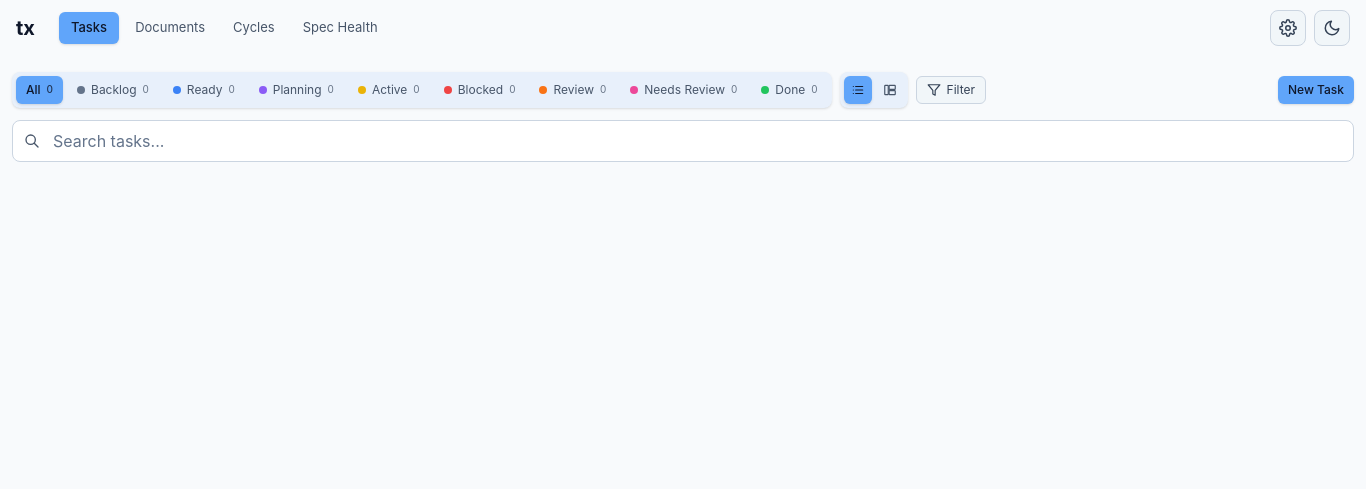
Keyboard shortcuts › CMD+A after tab transitions › selects all tasks after navigating Spec Health -> Tasks
The image size is (1366, 489).
Click the button "Spec Health": (340, 28) [291,12,390,44]
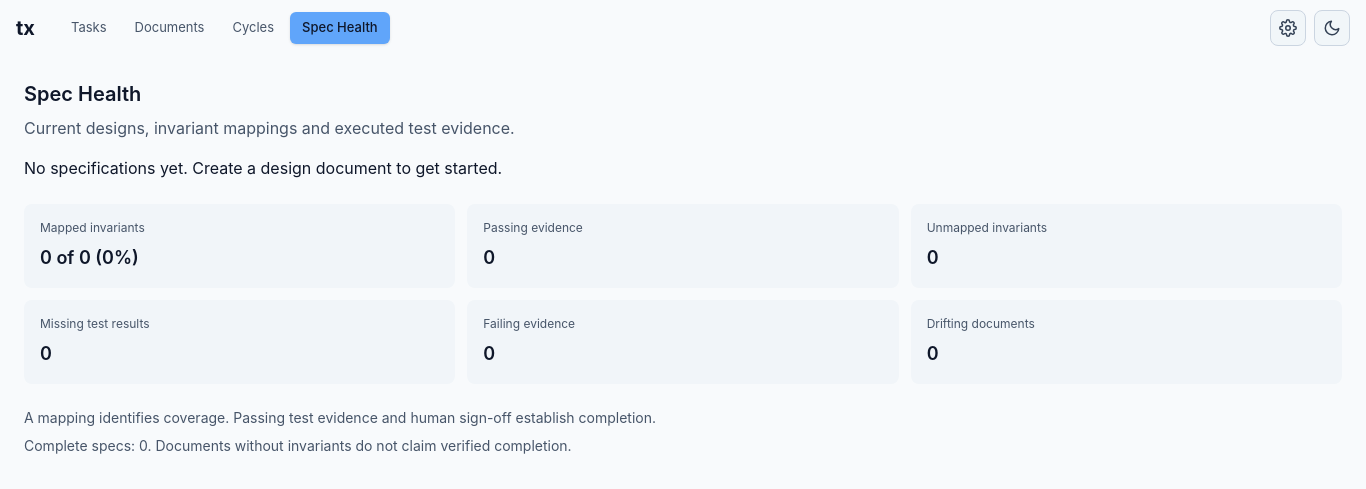
Expected: the text "No specifications yet" is shown, [24,158,502,178]
Click the button "Tasks": (89, 28) [59,12,118,44]
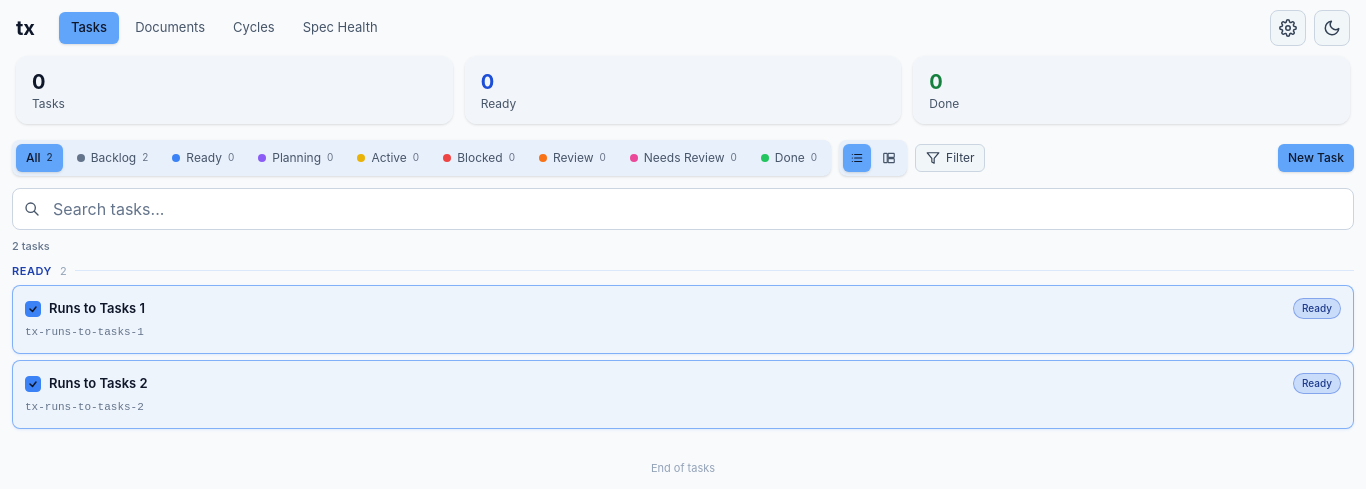
Expected: the heading "Runs to Tasks 1" is shown, [49,299,145,318]
